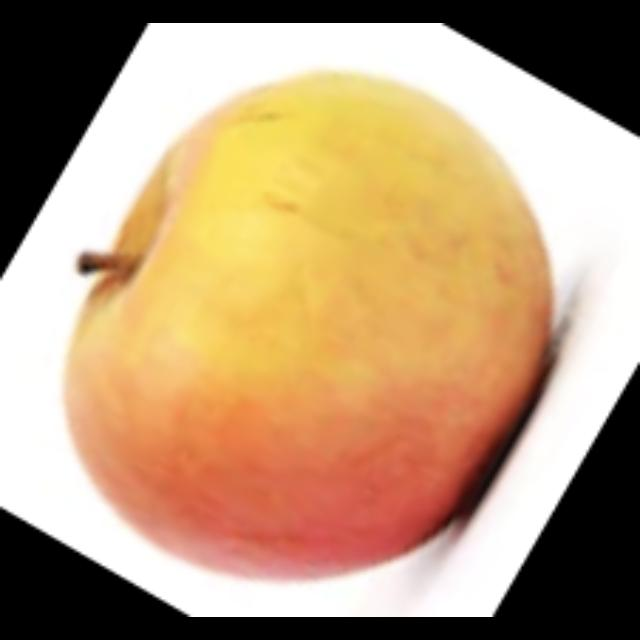Apel Segar: (61, 74, 555, 580)
